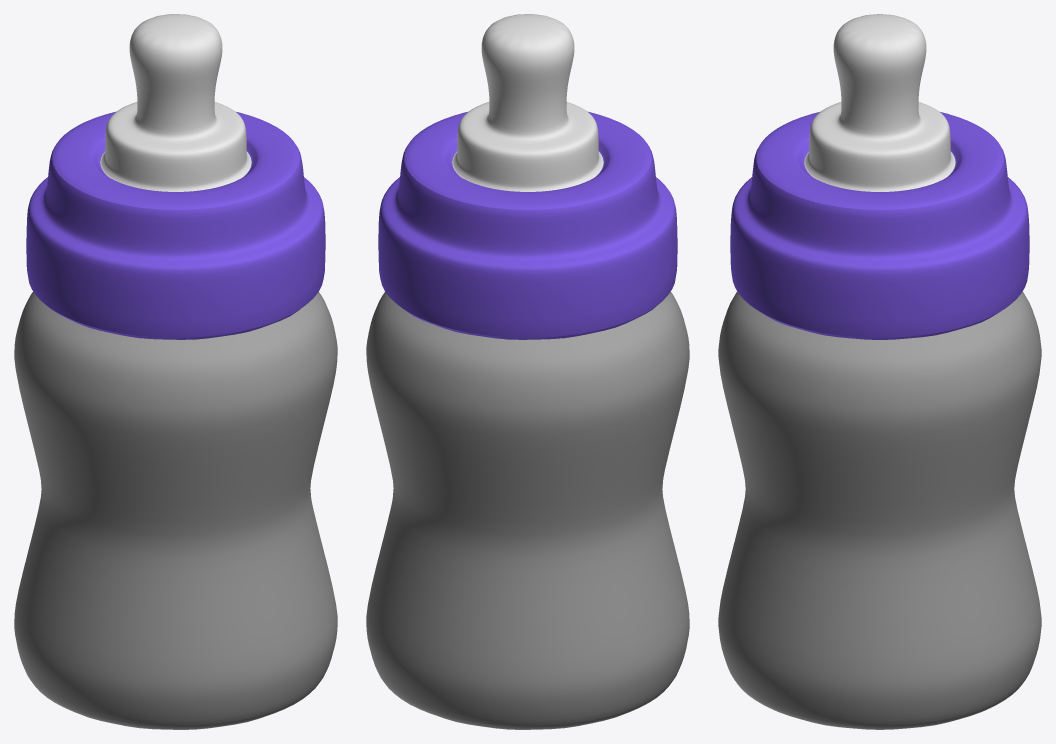
The model's file is SM_Melkflesje.fbx.
The picture shows the model from 3 angles, left to right: view 1: azimuth 30°, elevation 25°; view 2: azimuth 150°, elevation 25°; view 3: azimuth 270°, elevation 25°; orthographic projection.
Visible parts, largest first — view 1: Cylinder.001, Cylinder.002; view 2: Cylinder.001, Cylinder.002; view 3: Cylinder.001, Cylinder.002.
Boxes of the visible parts, <box> form: Cylinder.001: <box>14,291,337,729</box>; Cylinder.002: <box>26,14,325,339</box>; Cylinder.001: <box>366,291,689,729</box>; Cylinder.002: <box>378,14,677,339</box>; Cylinder.001: <box>718,291,1041,729</box>; Cylinder.002: <box>730,14,1029,339</box>.
Bounding box in the file's own units: 17.27 × 38.37 × 17.27.
